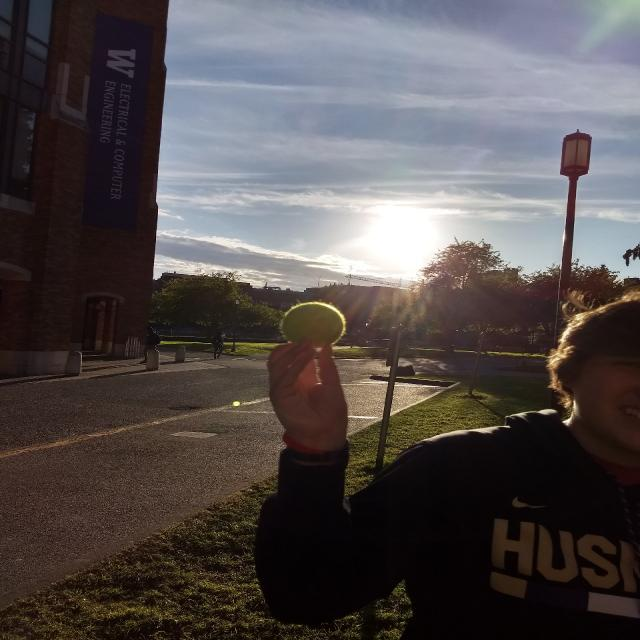Tennis-Ball: (280, 302, 346, 349)
